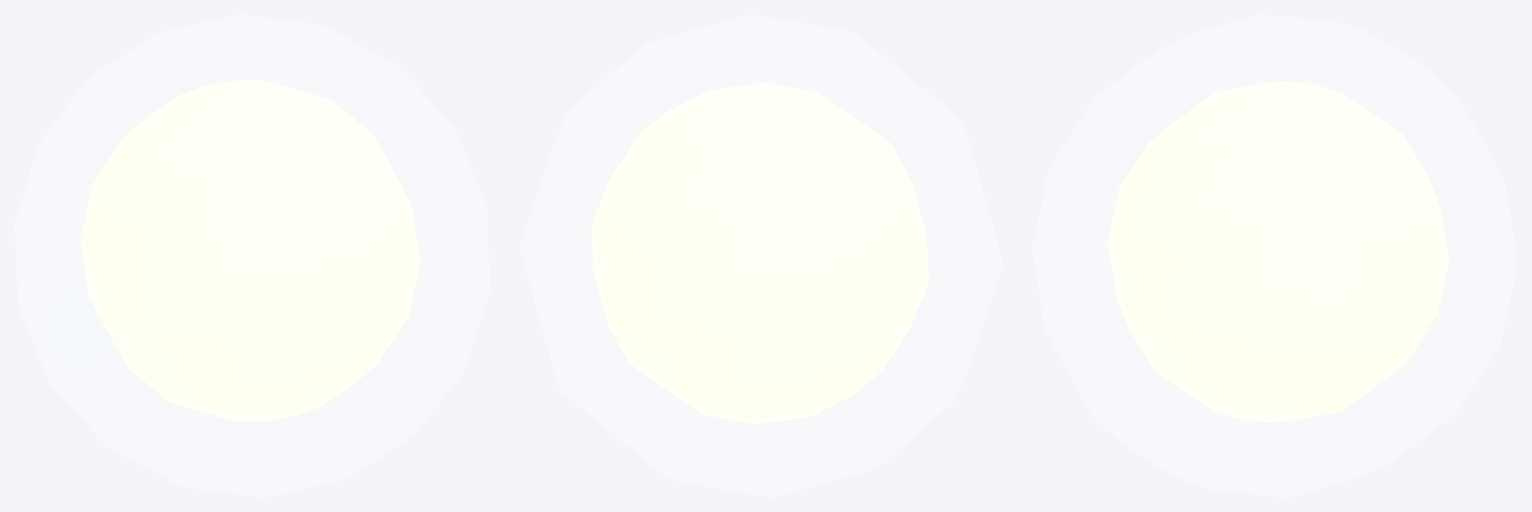
3 renders of one model, left to right at view 1: azimuth 30°, elevation 25°; view 2: azimuth 150°, elevation 25°; view 3: azimuth 270°, elevation 25°, orthographic.
Parts seen in each view (by area): view 1: node_MeshObject-770160896-PolyGlass24, node_MeshObject-251440832-PolyPaper13; view 2: node_MeshObject-770160896-PolyGlass24, node_MeshObject-251440832-PolyPaper13; view 3: node_MeshObject-770160896-PolyGlass24, node_MeshObject-251440832-PolyPaper13.
Boxes of the visible parts, bbox=[...] form: node_MeshObject-770160896-PolyGlass24: bbox=[14, 14, 490, 497]; node_MeshObject-251440832-PolyPaper13: bbox=[80, 80, 420, 421]; node_MeshObject-770160896-PolyGlass24: bbox=[519, 14, 1003, 497]; node_MeshObject-251440832-PolyPaper13: bbox=[591, 82, 928, 424]; node_MeshObject-770160896-PolyGlass24: bbox=[1032, 14, 1517, 497]; node_MeshObject-251440832-PolyPaper13: bbox=[1107, 80, 1448, 422].
Bounding box in the file's own units: 0.2391 × 0.2373 × 0.2405.
